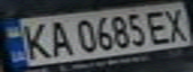0: (72, 16, 96, 54)
5: (124, 10, 151, 47)
6: (93, 14, 115, 52)
8: (109, 12, 133, 50)
A: (42, 18, 75, 57)
E: (142, 8, 175, 45)
K: (15, 19, 54, 61)
X: (160, 6, 193, 43)
